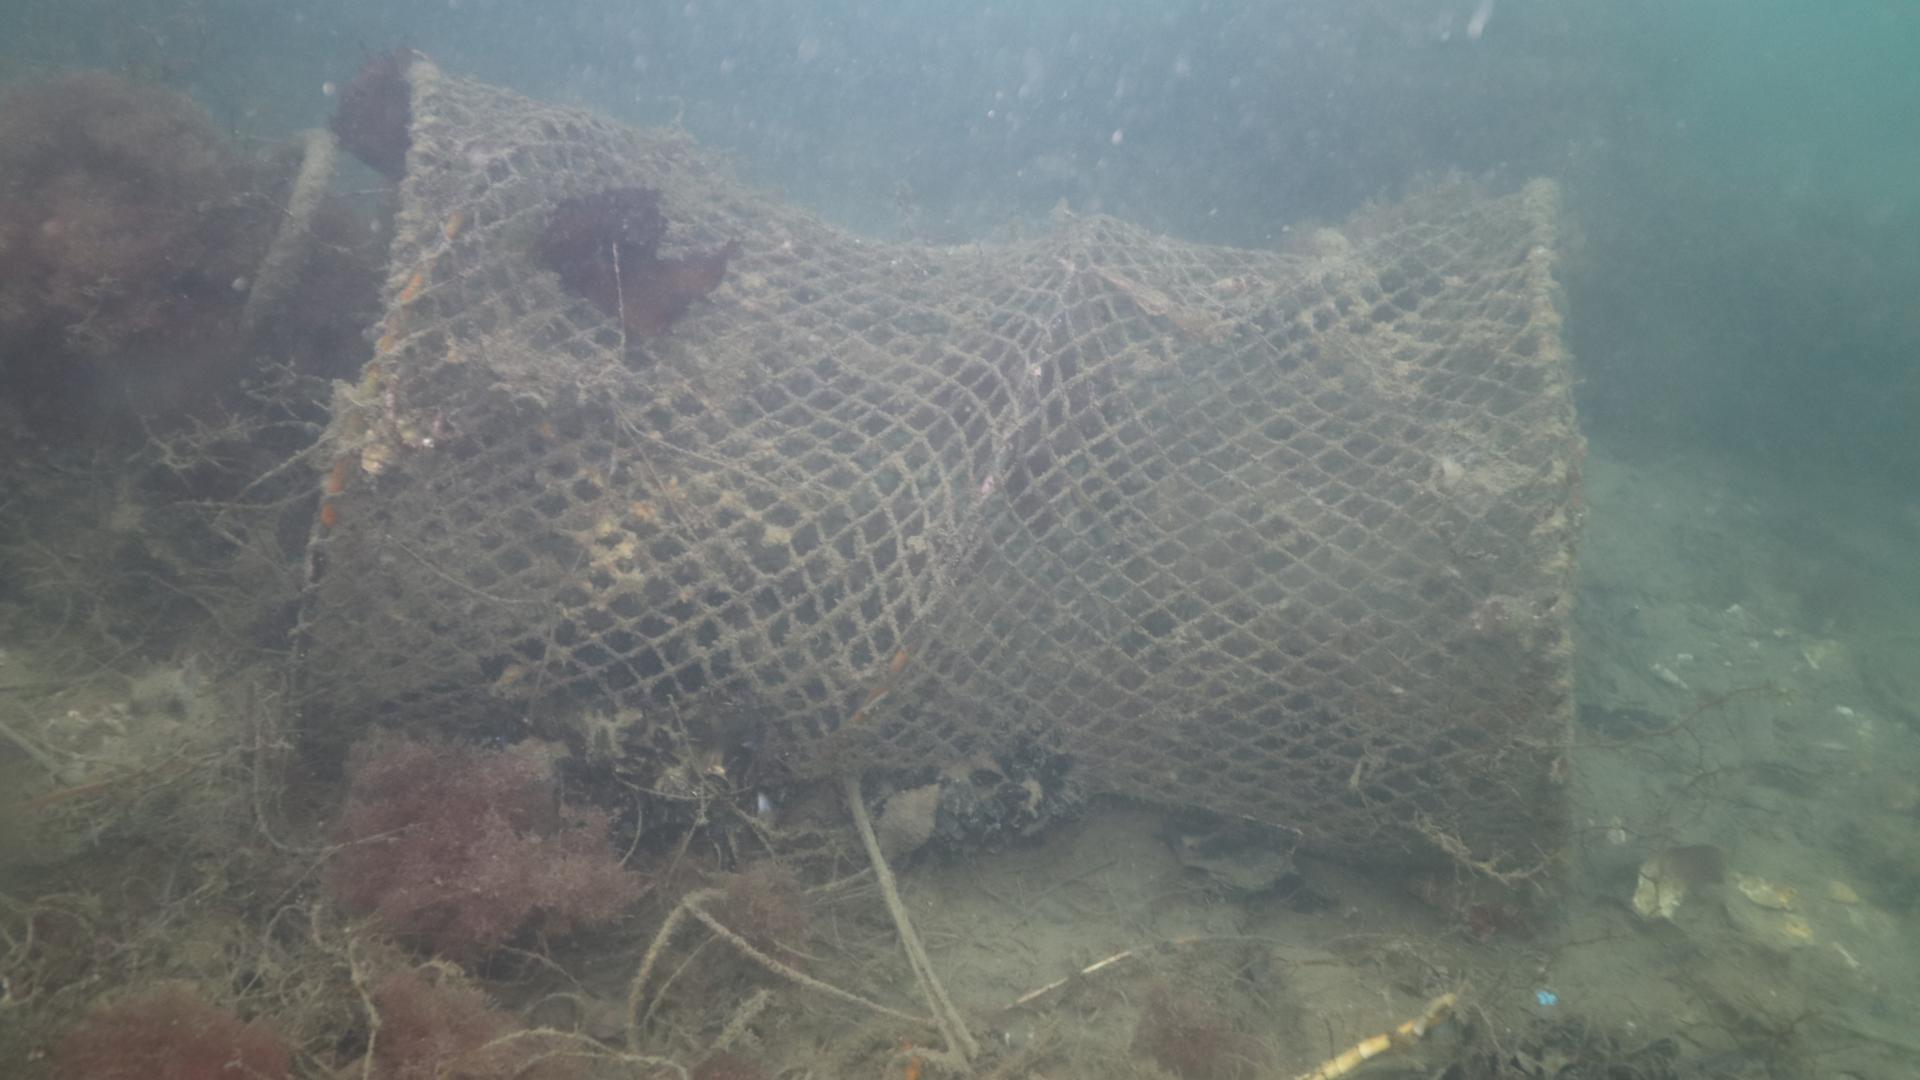spring fish trap: (290, 51, 1584, 938)
